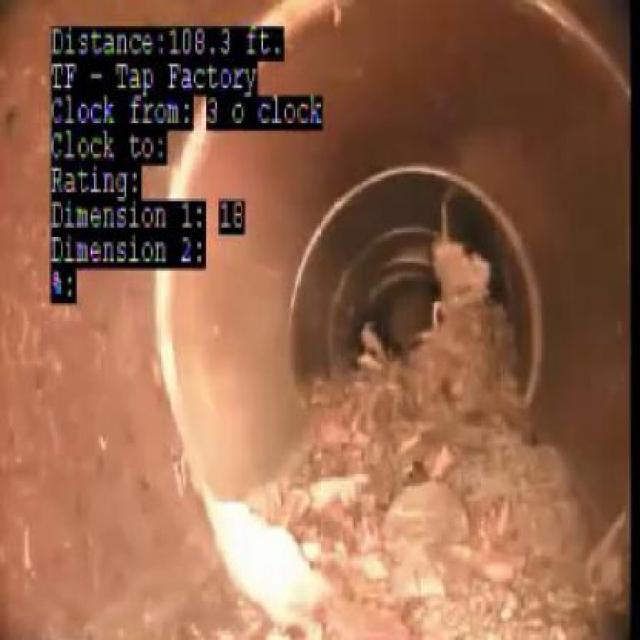Obstacle: (263, 243, 600, 625)
